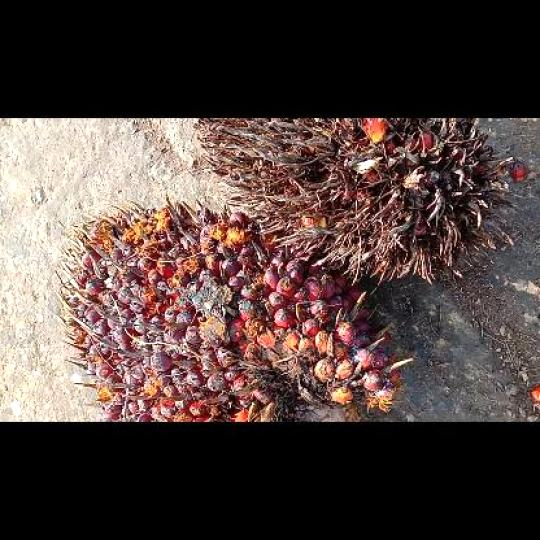masak: (54, 194, 411, 420)
terlalu masak: (192, 118, 518, 279)
